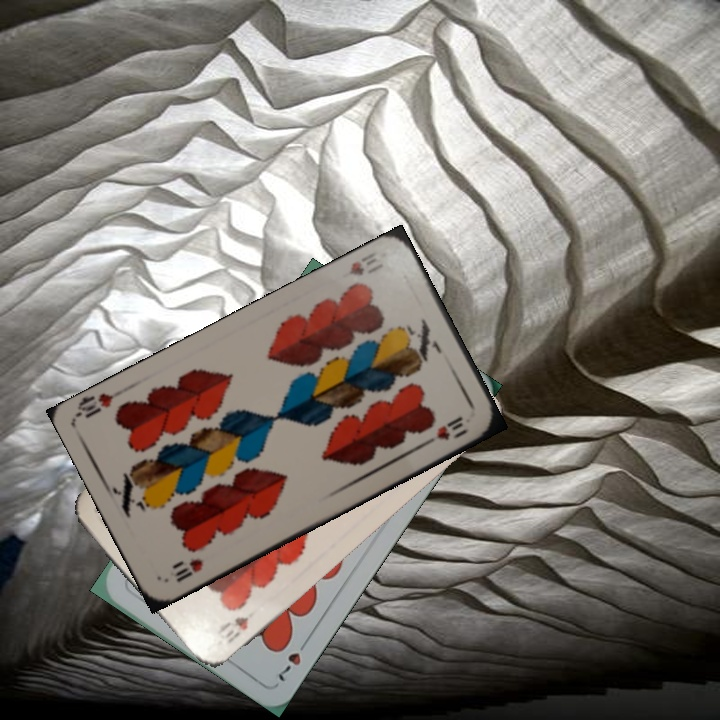H10: (213, 612, 251, 646), (166, 554, 206, 585), (344, 248, 384, 278)
H7: (270, 634, 312, 685)
